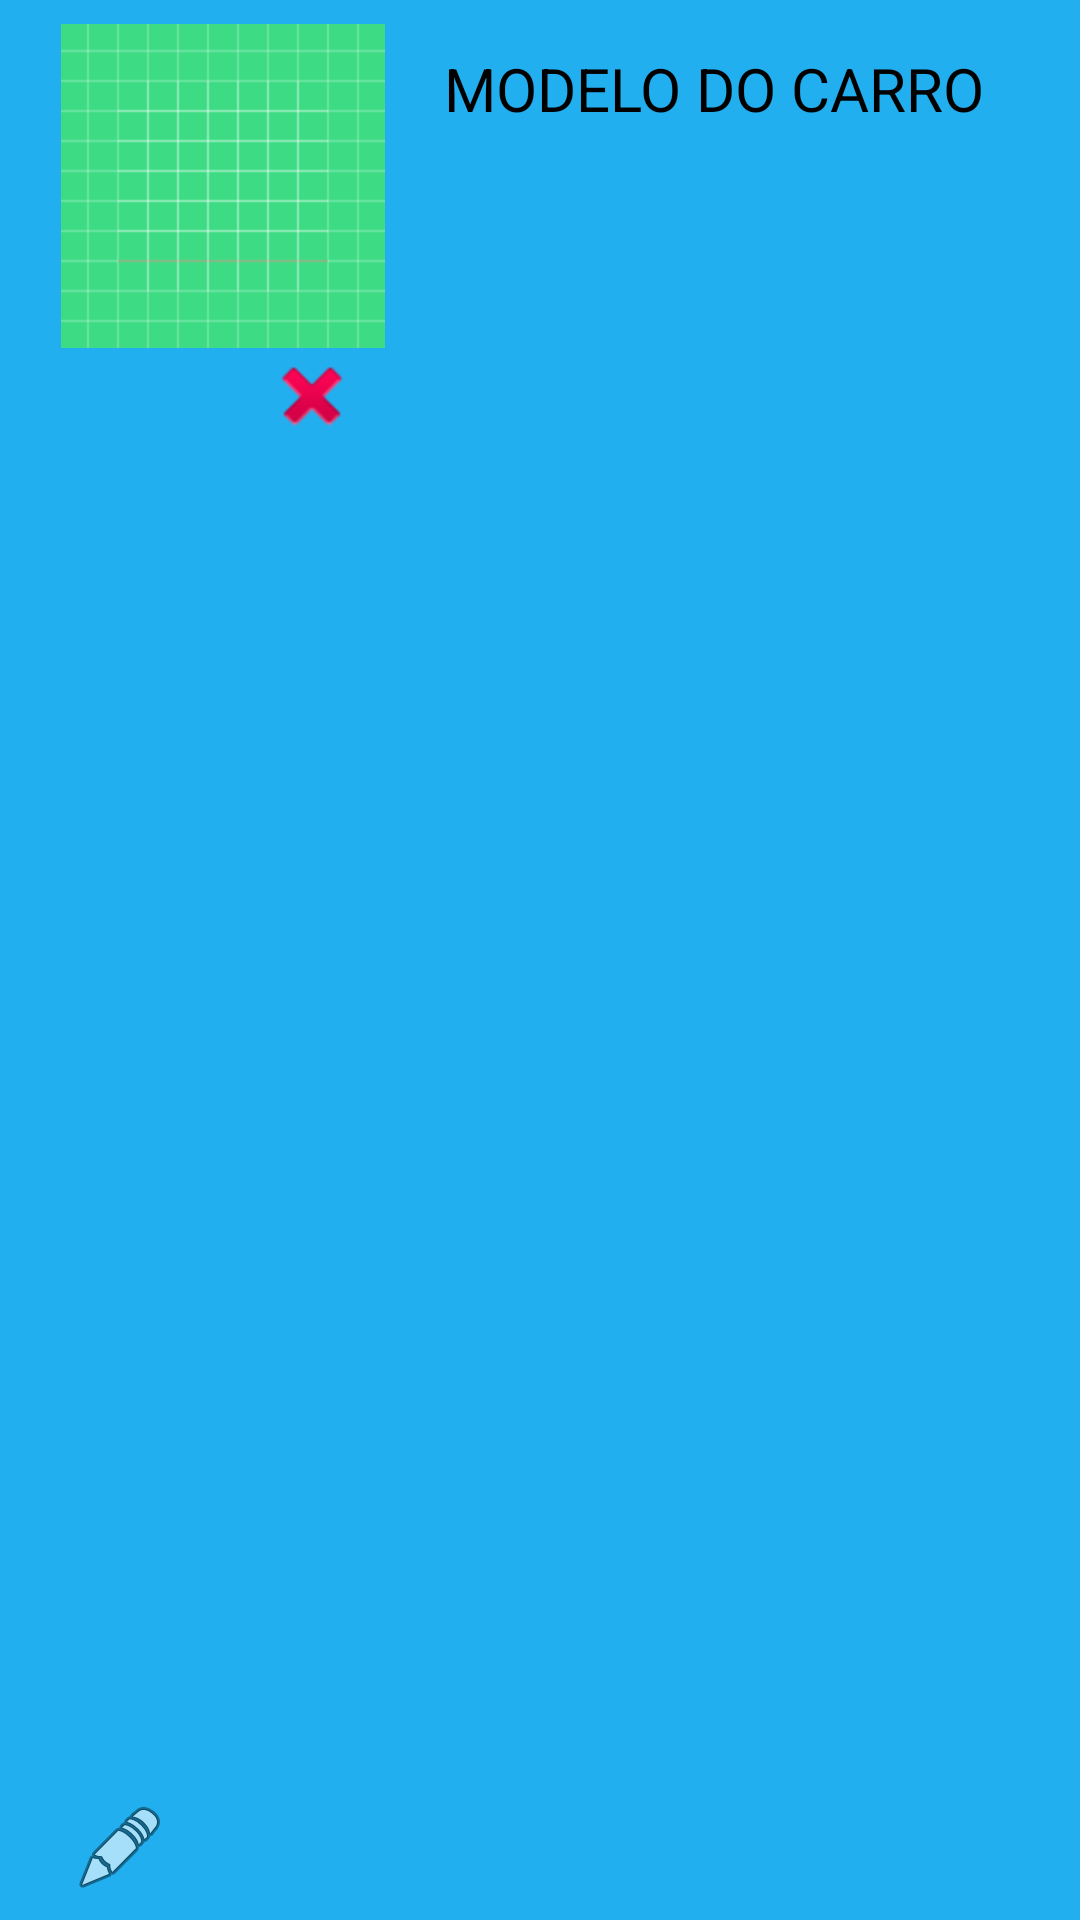

Icons on this 1080 × 1920 Android screen, each with its box as (x1, y1, x2, y2):
delete: (282, 367, 342, 426)
edit: (79, 1807, 160, 1888)
